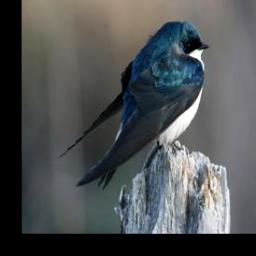Swallow: (57, 19, 208, 189)
